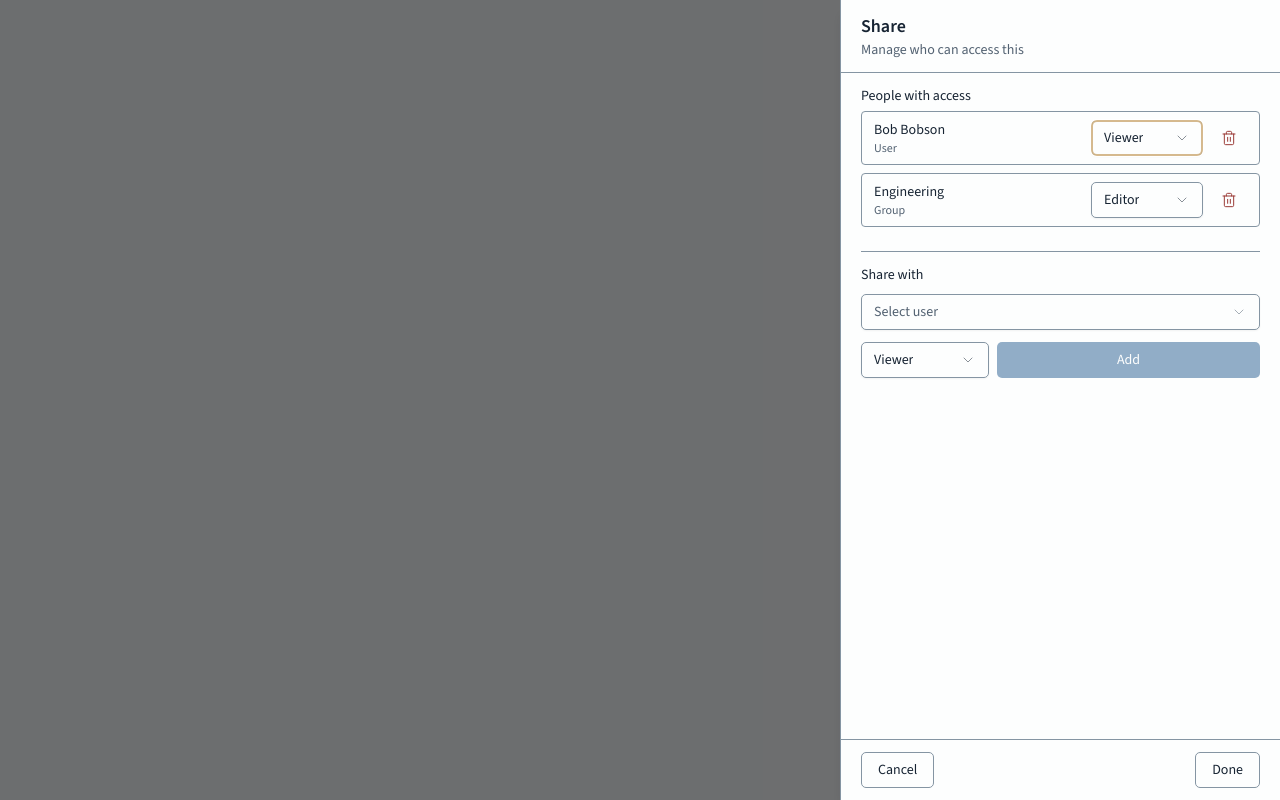
Test: ShareSheet › shows a revoke confirmation naming the principal and resource, and that other access may remain
Click the button named "Revoke" in the row of "Bob Bobson": coordinates (1229, 138) [1211,120,1247,156]
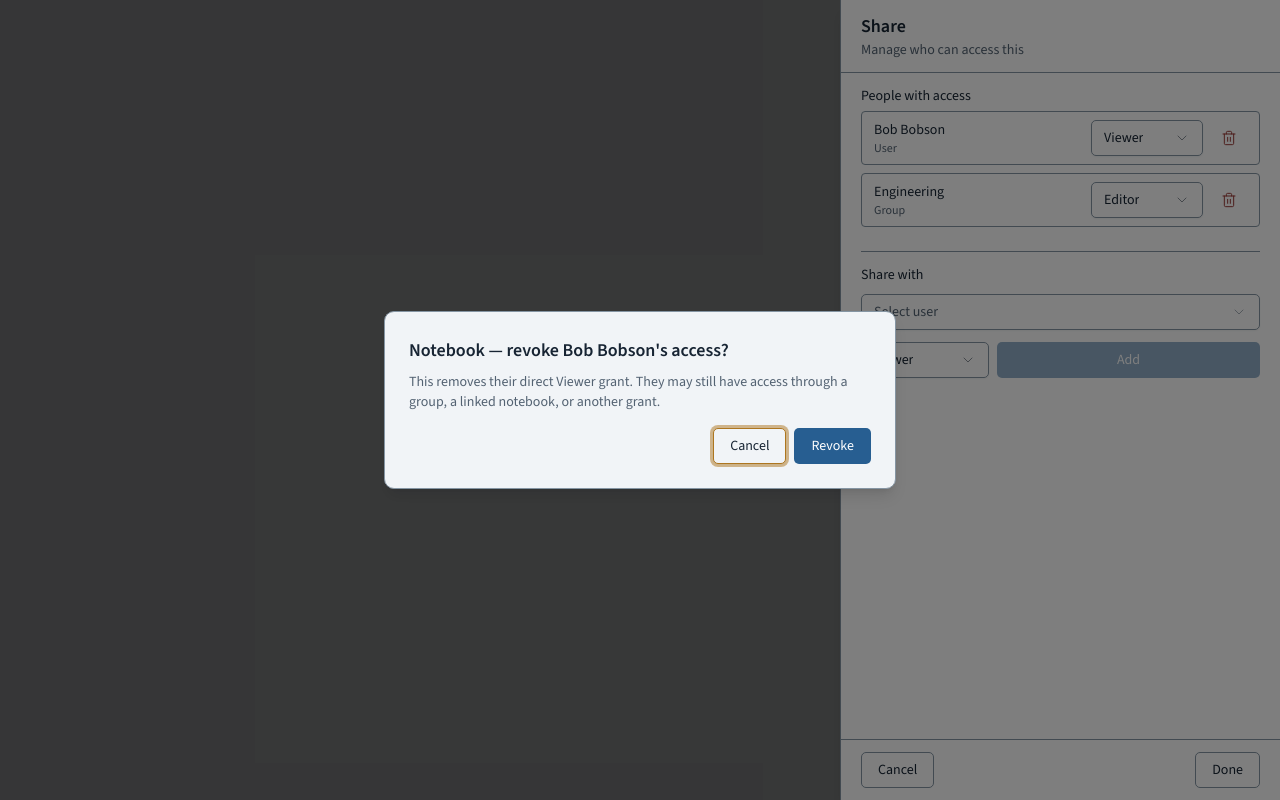
Expected: the dialog that starts with "Notebook — revoke Bob Bobson's access?" is shown, [384,311,896,489]
Expected: the heading "Notebook — revoke Bob Bobson's access?" is shown, [409,338,729,362]
Expected: the text "This removes their direct Viewer grant. They may still have access through a group, a linked notebook, or another grant." is shown, [409,372,847,411]
